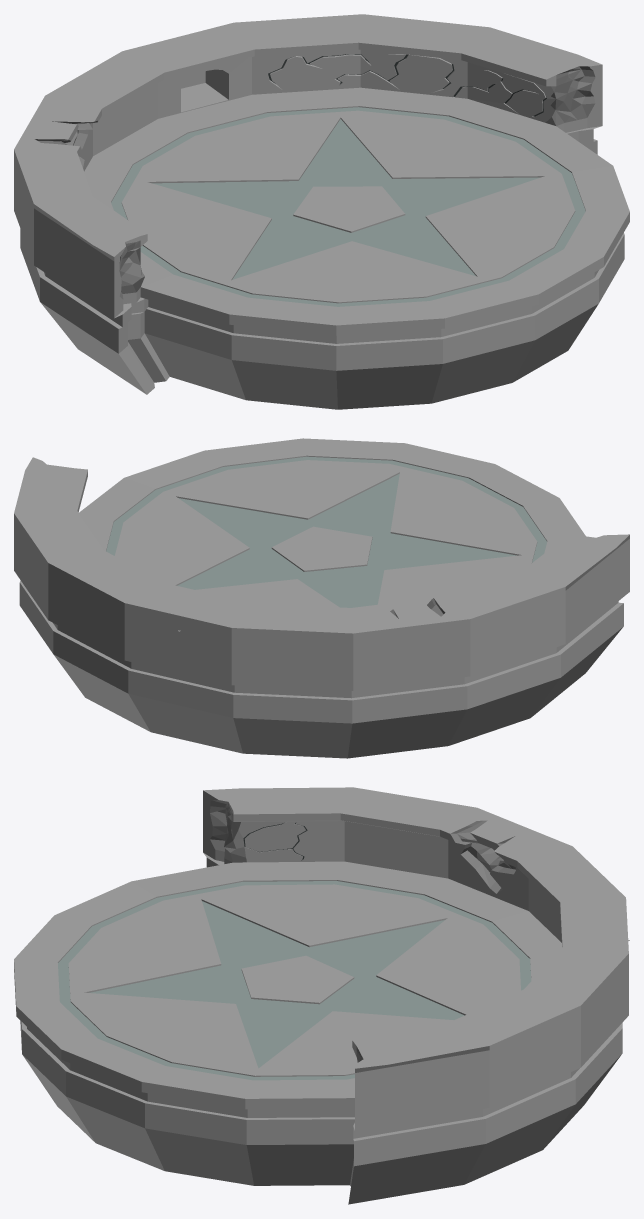
The model's file is map_shape.fbx.
3 renders of one model, top to bottom at view 1: azimuth 30°, elevation 25°; view 2: azimuth 150°, elevation 25°; view 3: azimuth 270°, elevation 25°, orthographic. The views are drawn at different scales.
Parts seen in each view (by area): view 1: Cylinder.001; view 2: Cylinder.001; view 3: Cylinder.001.
Part boxes in pixels (box(x1,y1,x2,y2)): Cylinder.001: box(14, 14, 629, 409); Cylinder.001: box(14, 438, 629, 758); Cylinder.001: box(14, 787, 629, 1204).
Bounding box in the file's own units: 1714 × 440 × 1586.
